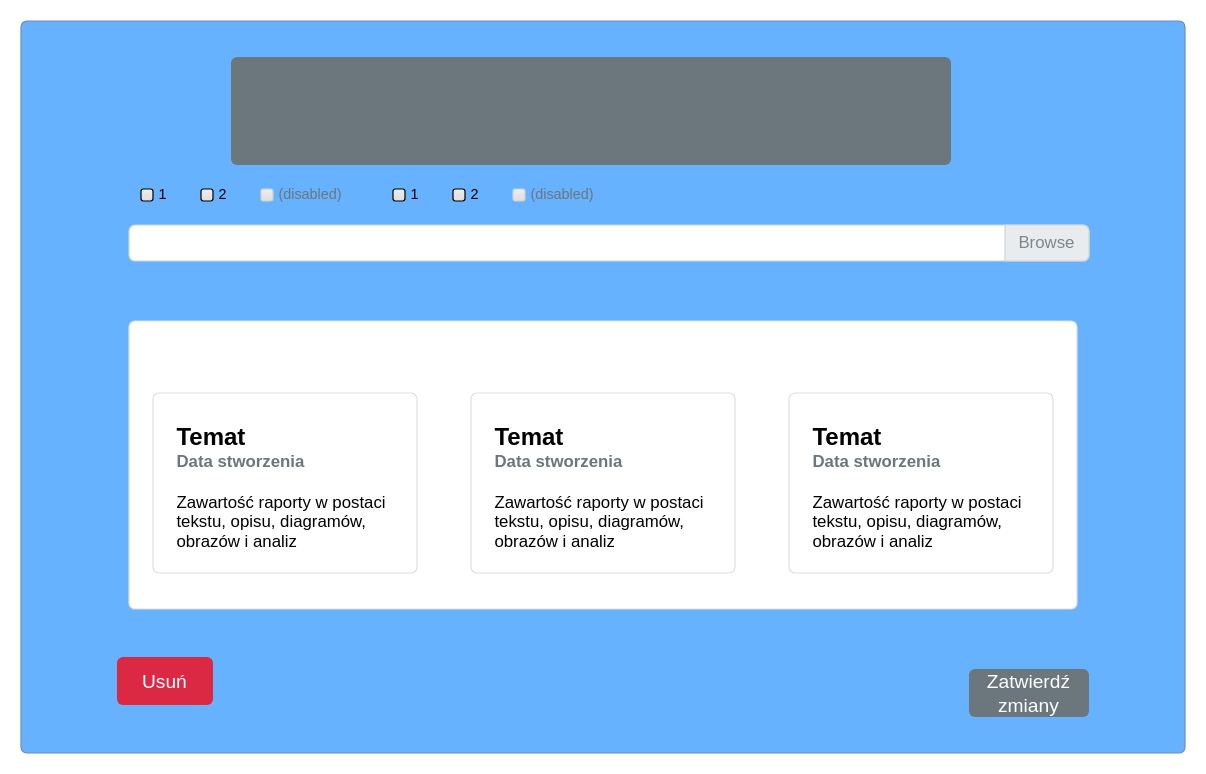
The diagram is 1206 pixels wide and 774 high, and some of its shapes have lost their labels. Each missing label, with the box of its shape:
Przykładowe raporty: (128, 320, 1077, 609)
Zarządzaj raportami: (230, 56, 950, 164)
Znajdź raport..: (128, 224, 1089, 261)
